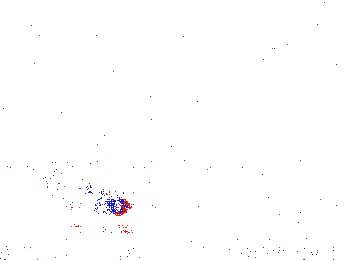flame jellyfish: (40, 153, 130, 217), (272, 172, 346, 229), (91, 156, 152, 218)
